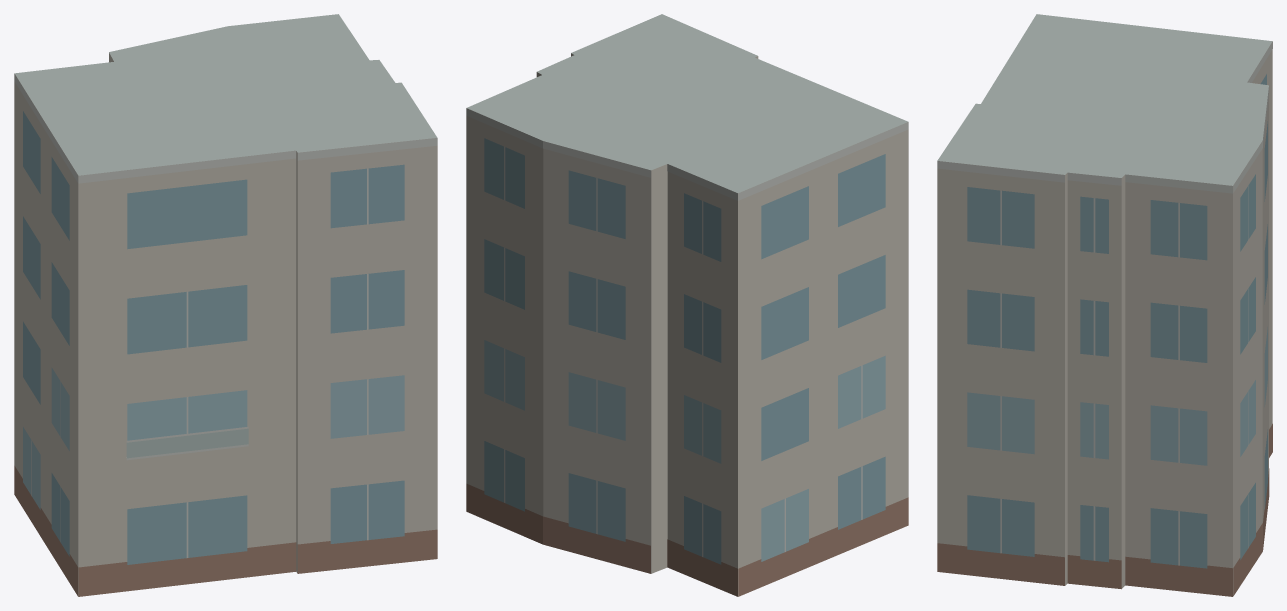
Rendered from survey-upis-33042197.glb.
3 views of the same model, side by side, from view 1: azimuth 30°, elevation 25°; view 2: azimuth 150°, elevation 25°; view 3: azimuth 270°, elevation 25° (orthographic). The views are drawn at different scales.
Visible parts, largest first — view 1: survey-upis-33042197.tmp; view 2: survey-upis-33042197.tmp; view 3: survey-upis-33042197.tmp.
Part boxes in pixels (left/top/right/bottom): survey-upis-33042197.tmp: left=14, top=14, right=437, bottom=596; survey-upis-33042197.tmp: left=466, top=14, right=908, bottom=596; survey-upis-33042197.tmp: left=937, top=14, right=1272, bottom=596.
Size of the model in its own units: 11.67 by 13 by 9.63.
